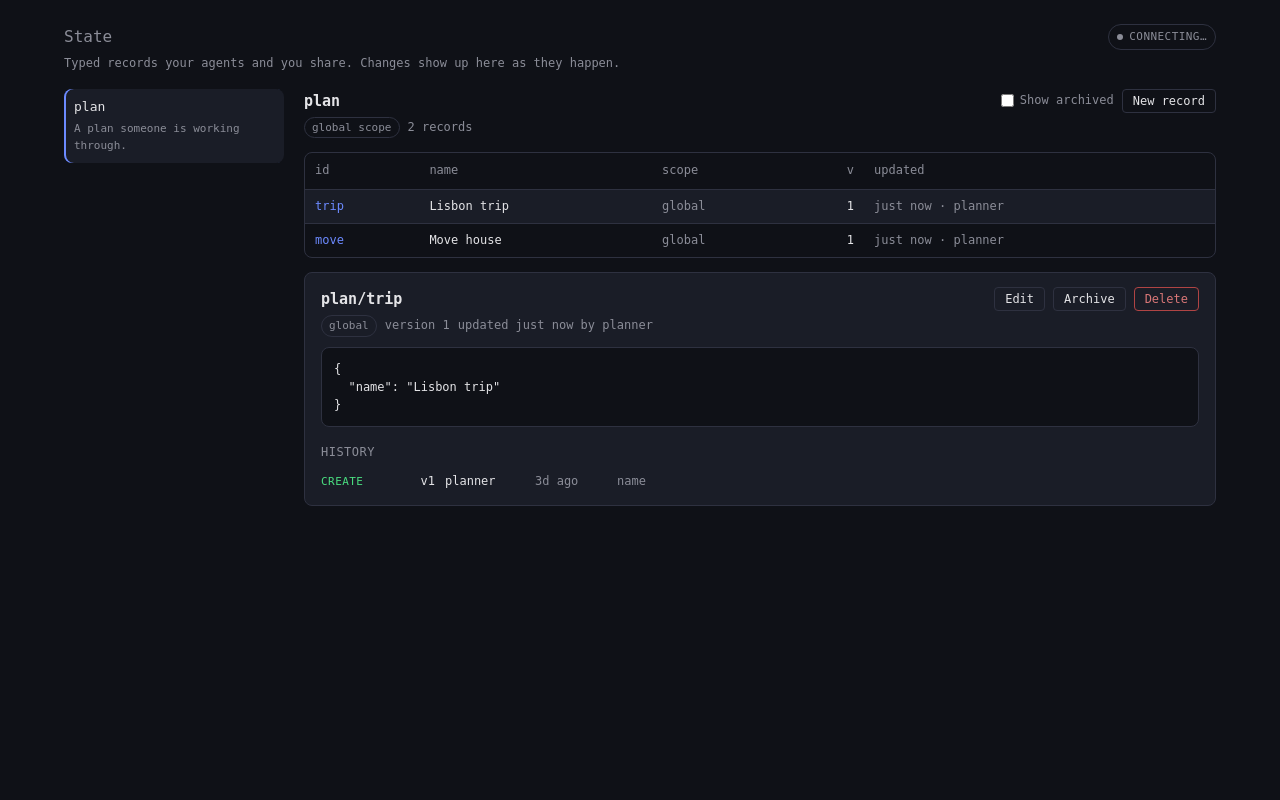
it: State page › warns while editing as soon as someone else changes the record
This screenshot has width=1280, height=800.
What coordinates should you click on to do the following:
click the button "Edit"
I would click on:
 (1020, 299)
Its box is [994,287,1045,311].
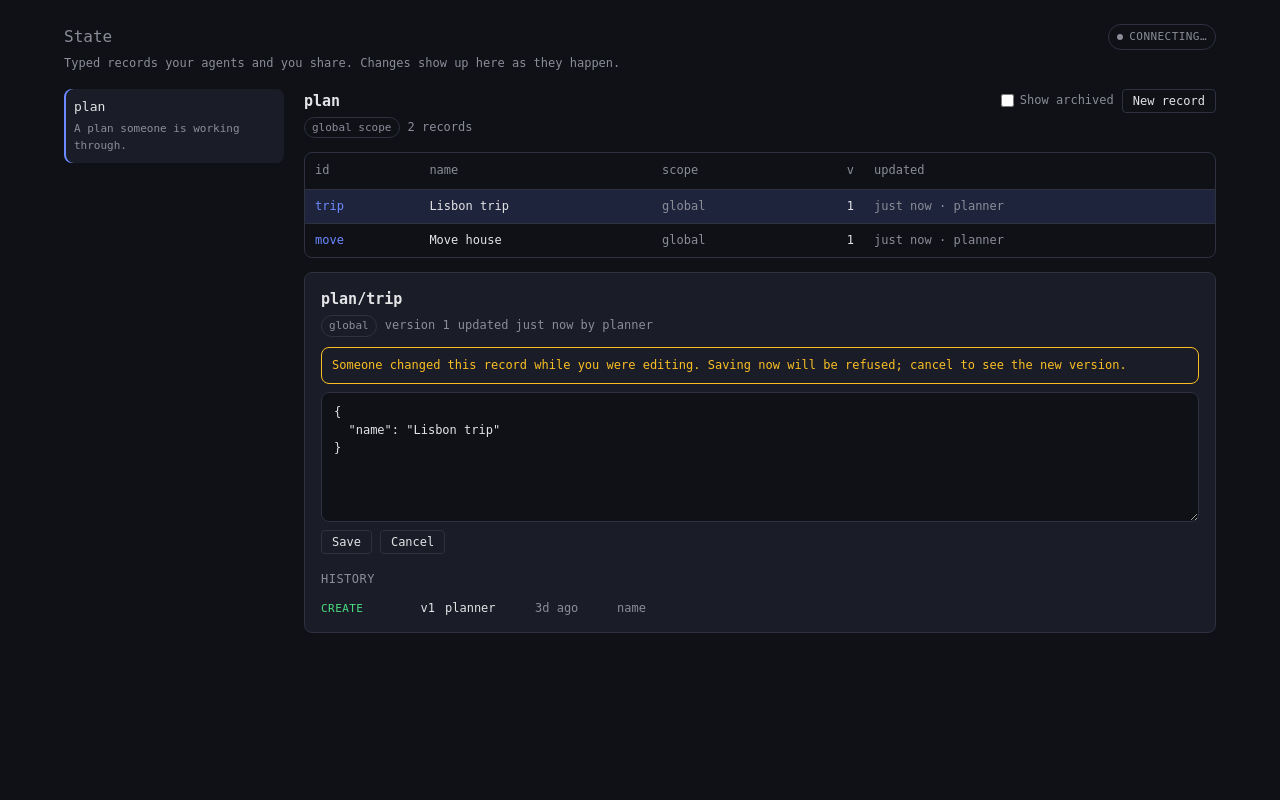
Now the text with class "state-warning" shows "Someone changed this record while you were editing.", box [332,358,1127,372]
